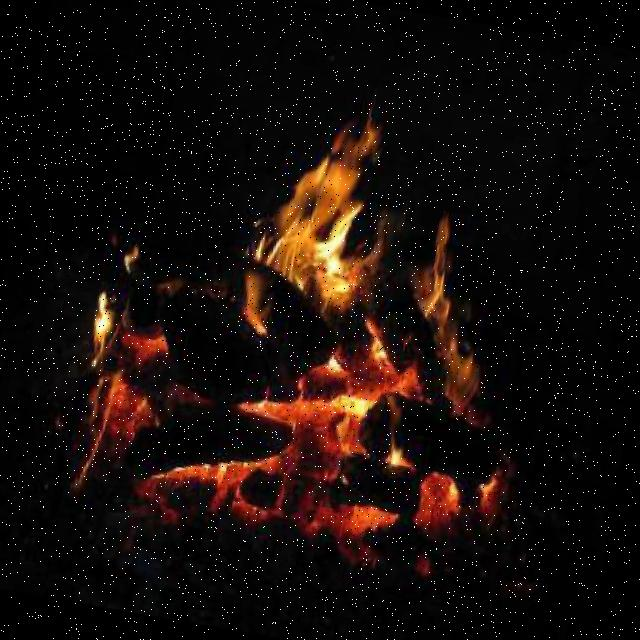fire: (17, 68, 596, 620)
